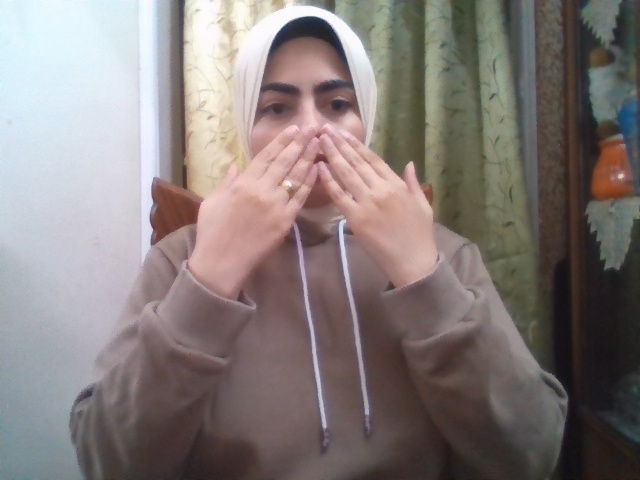thanks: (195, 124, 437, 279)
